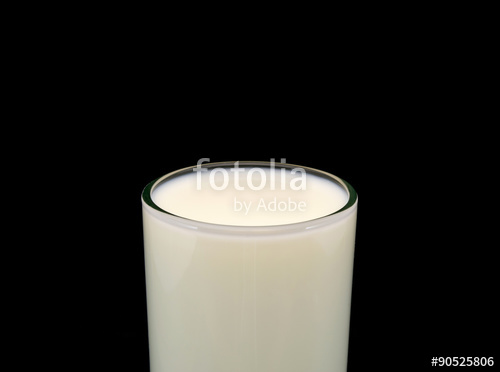glass of milk: (132, 159, 368, 372)
